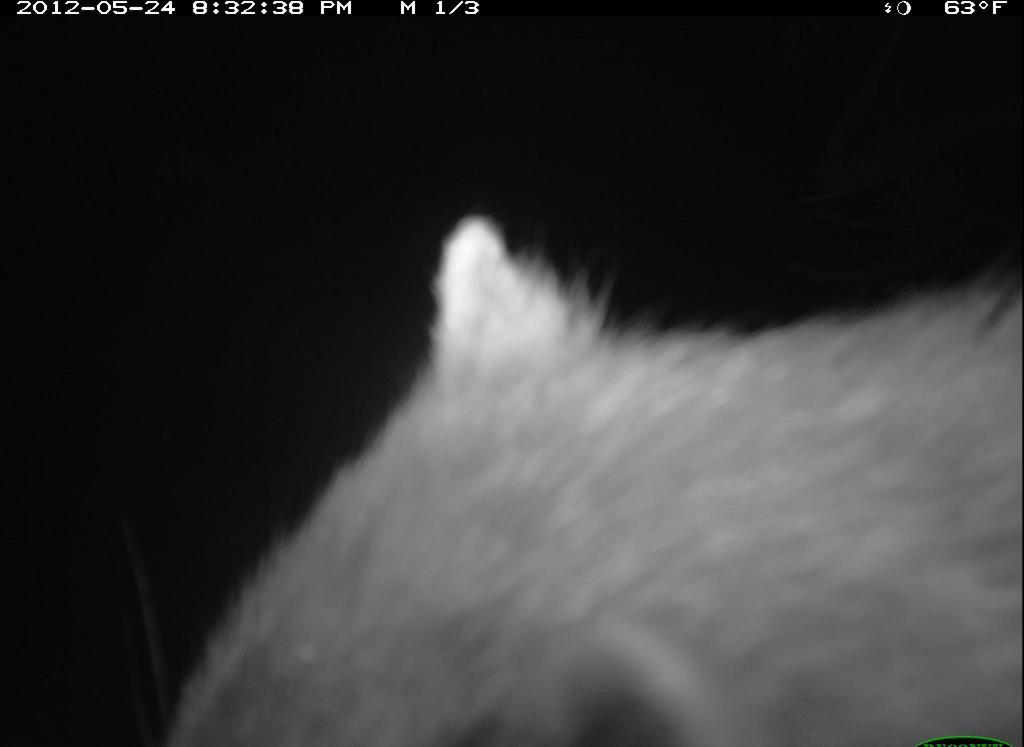raccoon: (129, 190, 1024, 747)
